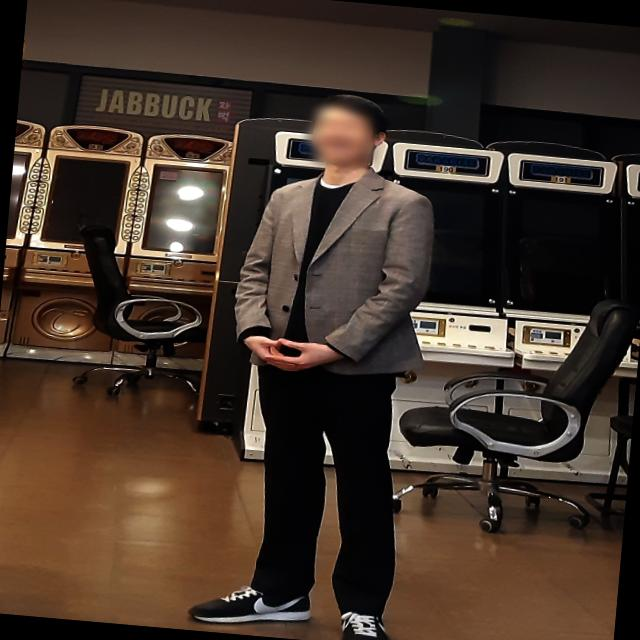blazer: (231, 158, 444, 384)
slacks: (230, 345, 416, 615)
